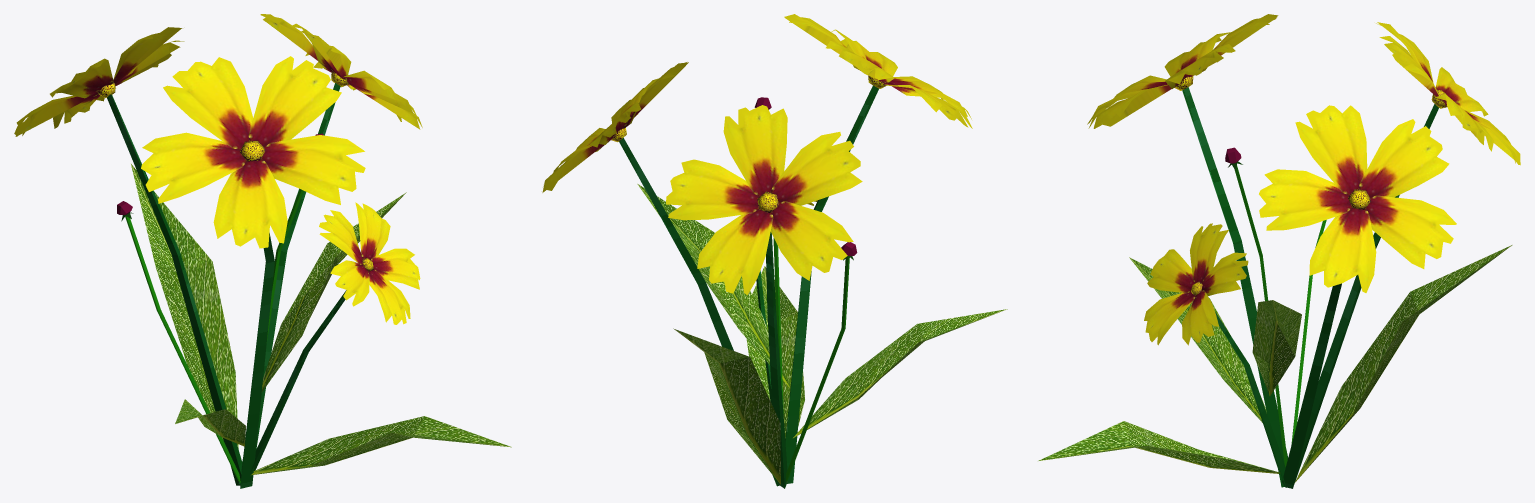
Rendered from yellow.fbx.
3 views of the same model, side by side, from view 1: azimuth 30°, elevation 25°; view 2: azimuth 150°, elevation 25°; view 3: azimuth 270°, elevation 25° (orthographic).
Parts seen in each view (by area): view 1: Circle.001; view 2: Circle.001; view 3: Circle.001.
Part boxes in pixels (bbox=[...]): Circle.001: bbox=[14, 14, 511, 488]; Circle.001: bbox=[542, 14, 1007, 488]; Circle.001: bbox=[1038, 14, 1520, 488].
Size of the model in its own units: 144 by 177 by 174.
Materials: 14 (8 with a texture image).
